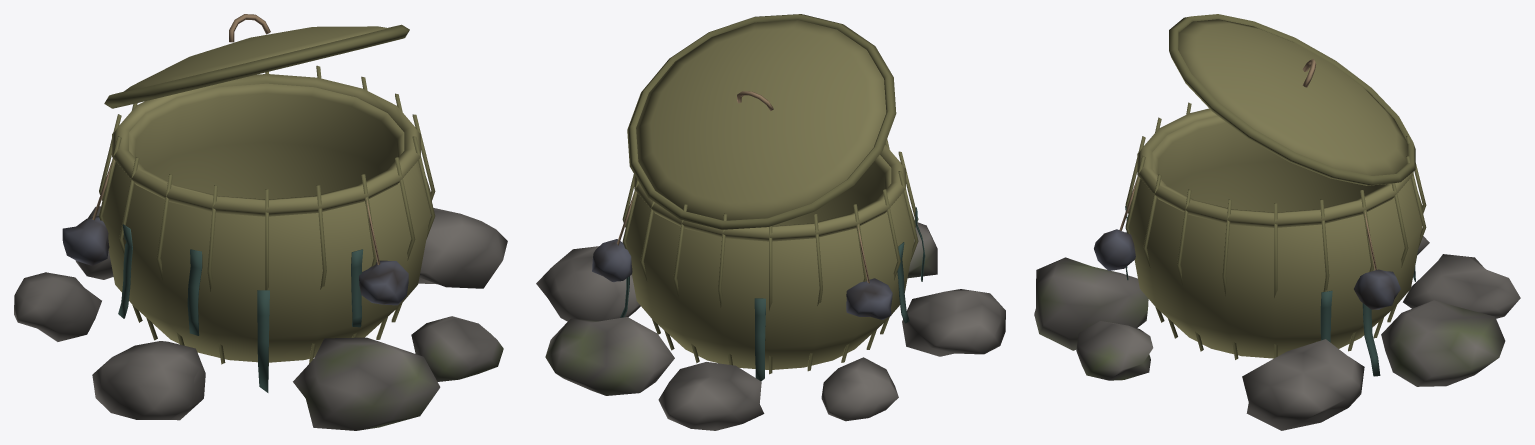
The model's file is camp_naga_reed_cache.glb.
3 renders of one model, left to right at view 1: azimuth 30°, elevation 25°; view 2: azimuth 150°, elevation 25°; view 3: azimuth 270°, elevation 25°, orthographic. The views are drawn at different scales.
Parts seen in each view (by area): view 1: camp_naga_reed_cache, camp_naga_reed_cache_lid; view 2: camp_naga_reed_cache, camp_naga_reed_cache_lid; view 3: camp_naga_reed_cache, camp_naga_reed_cache_lid.
Boxes of the visible parts, box(x1,y1,x2,y2) form: camp_naga_reed_cache: box(14, 65, 507, 430); camp_naga_reed_cache_lid: box(104, 14, 409, 108); camp_naga_reed_cache: box(536, 139, 1005, 430); camp_naga_reed_cache_lid: box(627, 14, 896, 229); camp_naga_reed_cache: box(1034, 102, 1520, 430); camp_naga_reed_cache_lid: box(1169, 14, 1415, 185).
Size of what is drawn, in the model's own units: 1.23 by 0.8729 by 1.27.
